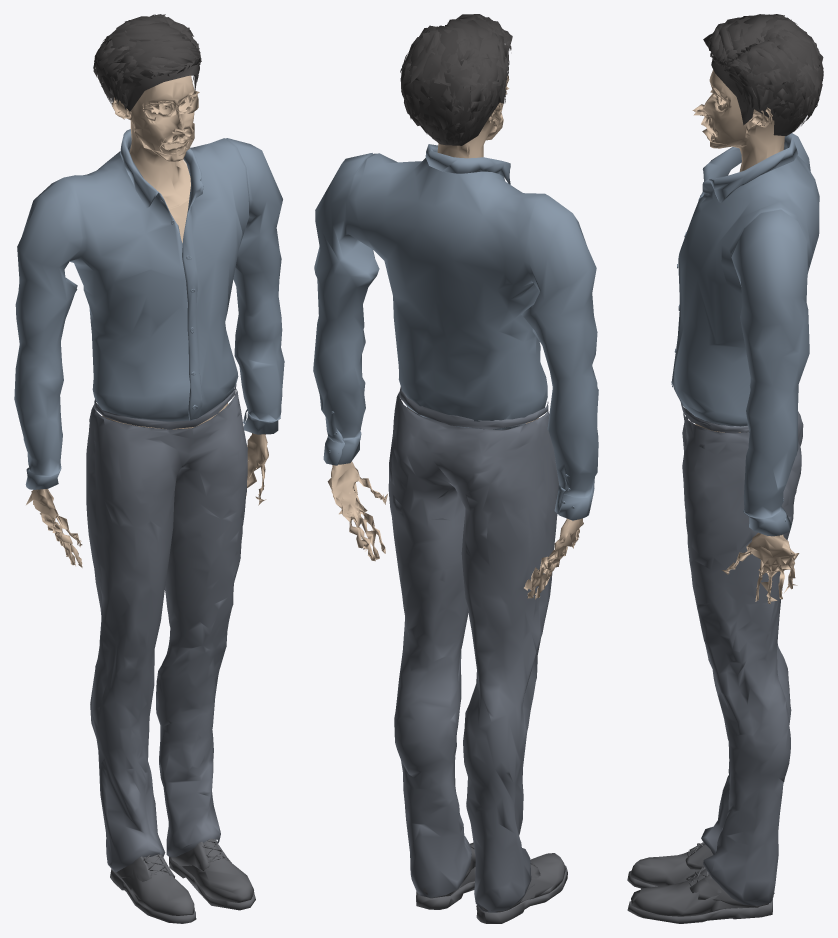
Rendered from clerk.glb.
The picture shows the model from 3 angles, left to right: view 1: azimuth 30°, elevation 25°; view 2: azimuth 150°, elevation 25°; view 3: azimuth 270°, elevation 25°; orthographic projection. The views are drawn at different scales.
Parts seen in each view (by area): view 1: shirt_4, pants_5, skin_0, hair_12, shoe_9, skin_2, shoe_10, shoe_8, pants_6, hair_11, skin_1; view 2: shirt_4, pants_5, hair_12, skin_2, shoe_10, pants_6, shoe_9, skin_0; view 3: shirt_4, pants_5, hair_12, skin_0, shoe_9, skin_2, hair_11, shoe_10, shoe_8, pants_6.
Part boxes in pixels (bbox=[...]): shirt_4: bbox=[14, 129, 284, 489]; pants_5: bbox=[86, 386, 247, 872]; skin_0: bbox=[111, 75, 199, 209]; hair_12: bbox=[93, 14, 201, 109]; shoe_9: bbox=[121, 838, 253, 915]; skin_2: bbox=[26, 159, 268, 567]; shoe_10: bbox=[110, 857, 255, 923]; shoe_8: bbox=[114, 839, 228, 881]; pants_6: bbox=[94, 384, 236, 429]; hair_11: bbox=[102, 49, 197, 119]; skin_1: bbox=[102, 197, 228, 429]; shirt_4: bbox=[313, 144, 598, 520]; pants_5: bbox=[388, 392, 558, 912]; hair_12: bbox=[400, 14, 512, 144]; skin_2: bbox=[327, 461, 583, 599]; shoe_10: bbox=[416, 865, 567, 923]; pants_6: bbox=[399, 387, 548, 429]; shoe_9: bbox=[460, 842, 565, 903]; skin_0: bbox=[437, 75, 509, 158]; shirt_4: bbox=[671, 133, 819, 536]; pants_5: bbox=[682, 411, 803, 905]; hair_12: bbox=[703, 14, 823, 131]; skin_0: bbox=[692, 70, 784, 171]; shoe_9: bbox=[630, 843, 737, 916]; skin_2: bbox=[722, 532, 799, 603]; hair_11: bbox=[711, 37, 814, 136]; shoe_10: bbox=[627, 870, 772, 923]; shoe_8: bbox=[685, 842, 774, 908]; pants_6: bbox=[681, 403, 749, 432].
Bounding box in the file's own units: 0.5416 × 1.68 × 0.3392.
